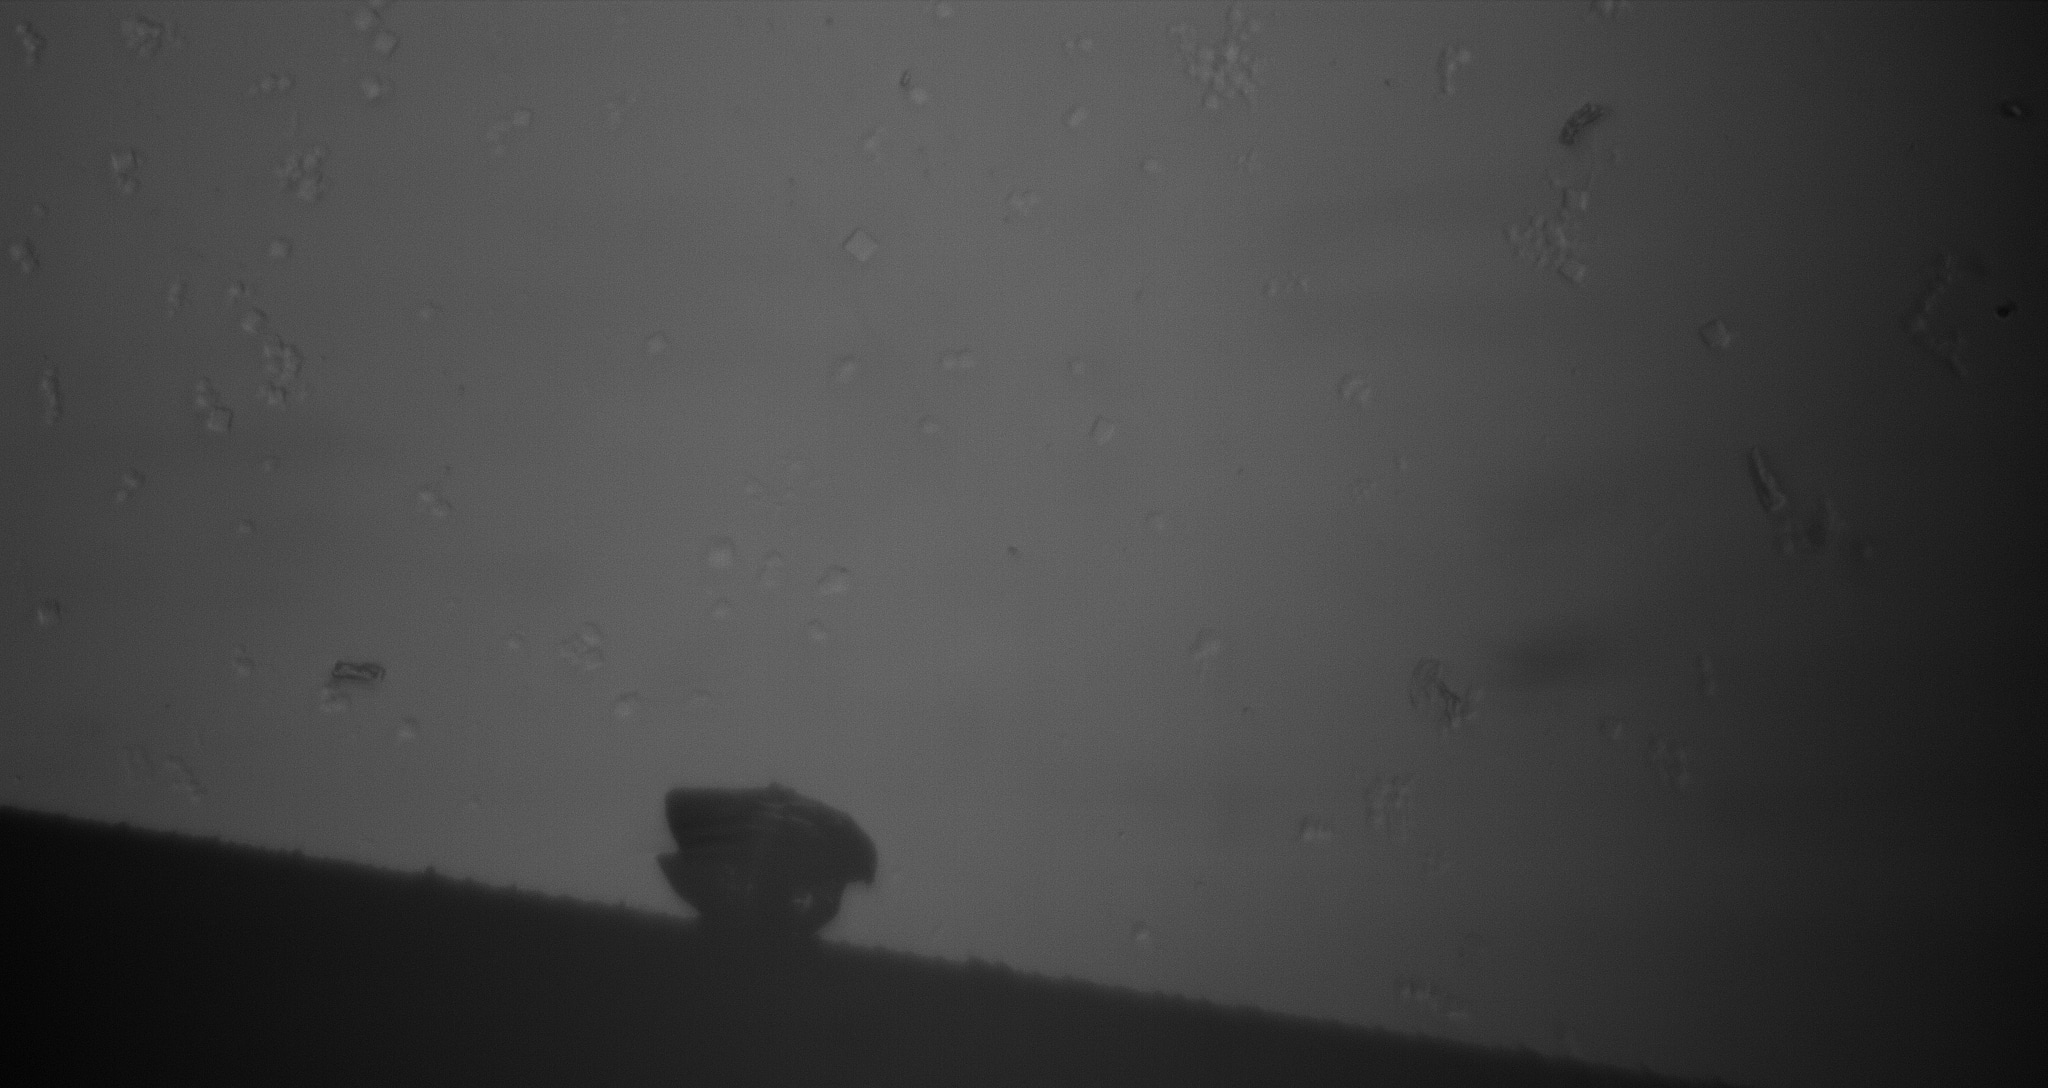square: (838, 229, 880, 268), (1699, 317, 1736, 350), (1085, 413, 1117, 446), (34, 599, 68, 630), (1558, 257, 1592, 287), (374, 34, 406, 61), (1559, 186, 1592, 213), (207, 406, 236, 436), (265, 234, 295, 263), (643, 331, 675, 356), (107, 150, 141, 172), (238, 308, 267, 333), (511, 104, 536, 130), (1596, 715, 1621, 737), (391, 719, 420, 738)
